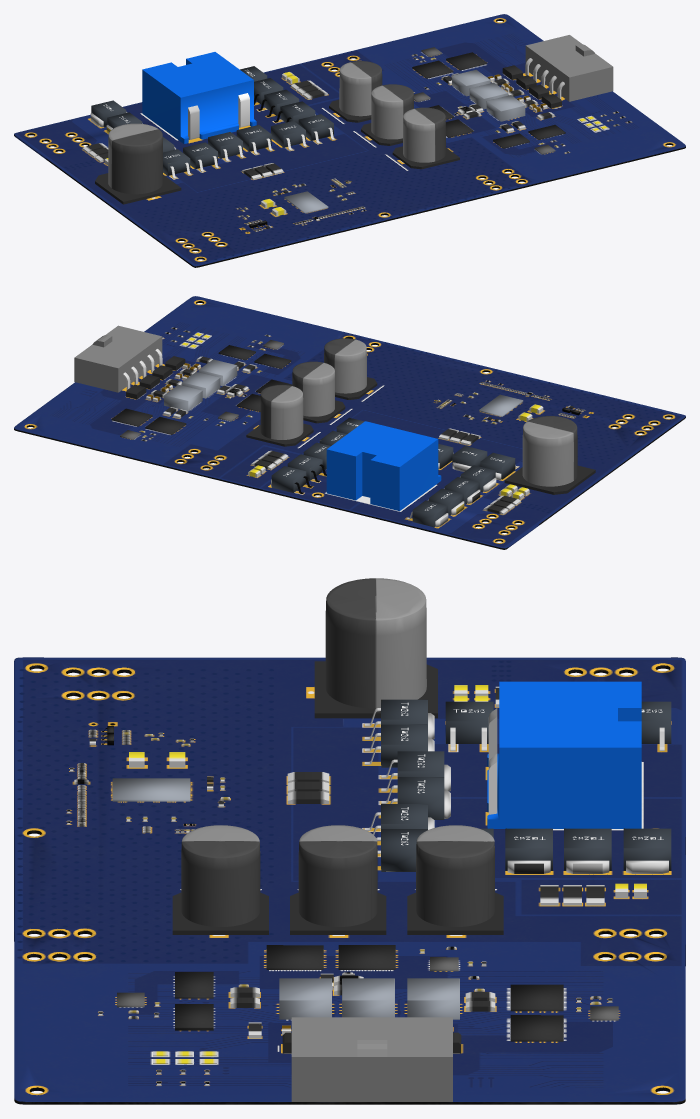
3 views of the same model, one above another, from view 1: azimuth 30°, elevation 25°; view 2: azimuth 150°, elevation 25°; view 3: azimuth 270°, elevation 25° (orthographic). The views are drawn at different scales.
Visible parts, largest first — view 1: Solar Circuit Board; view 2: Solar Circuit Board; view 3: Solar Circuit Board.
Part boxes in pixels (x1,y1,x2,y2): Solar Circuit Board: (14, 14, 685, 267); Solar Circuit Board: (14, 296, 685, 549); Solar Circuit Board: (14, 578, 685, 1104).
Bounding box in the file's own units: 0.1353 × 0.0138 × 0.0863.
Materials: 1 (1 with a texture image).
